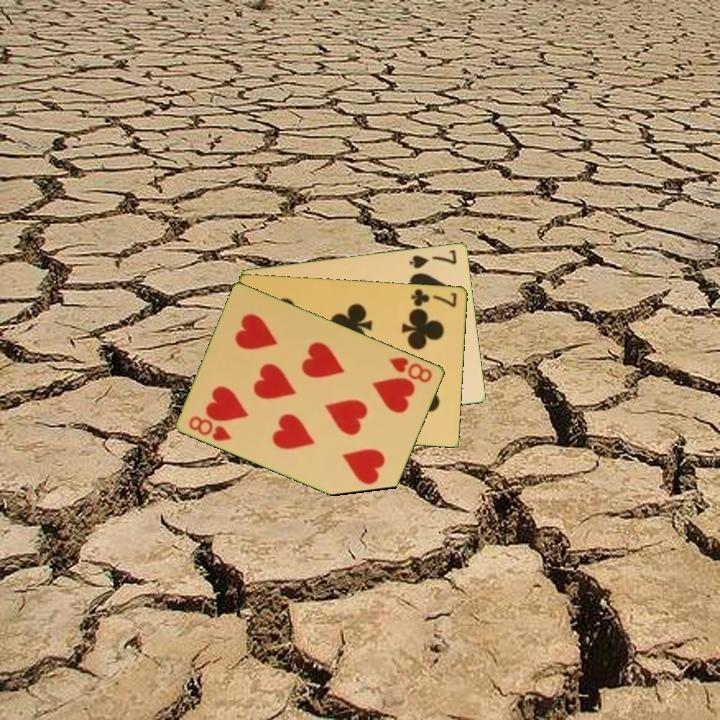7c: (408, 285, 460, 309)
7s: (406, 246, 460, 271)
8h: (386, 353, 436, 385), (185, 412, 235, 444)
